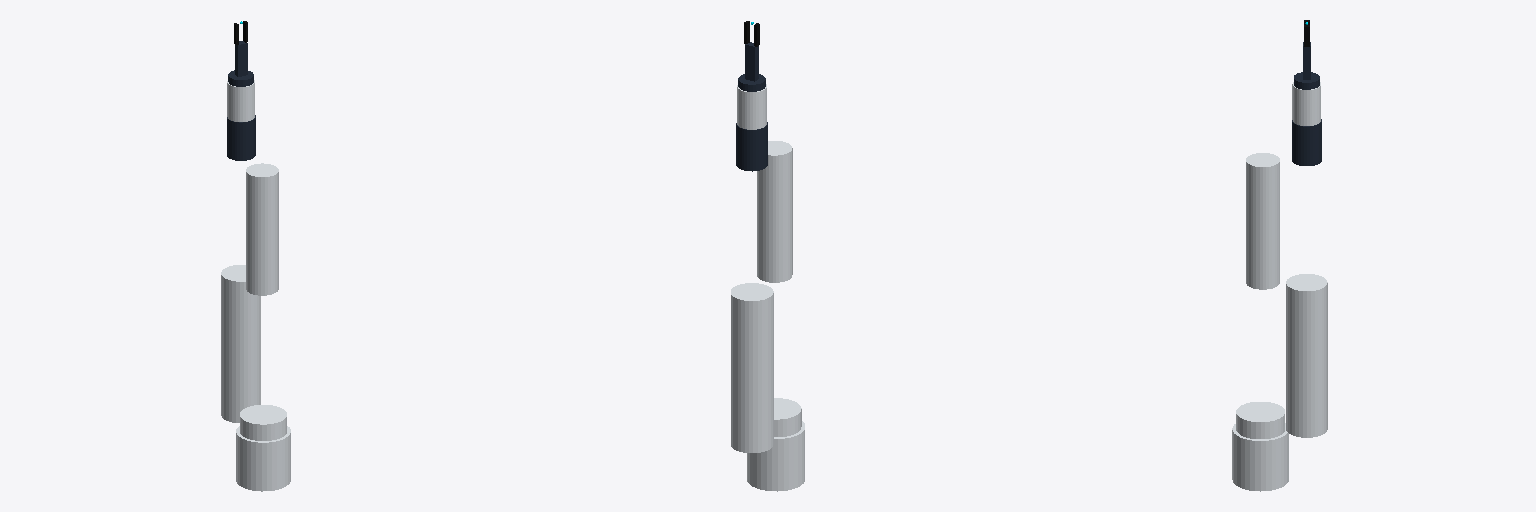
The robot description file, URDF, robot "dobot_cr5as_pge50":
<?xml version="1.0" encoding="utf-8"?>
<!-- 
  Modelo URDF del Robot Colaborativo Dobot CR5AS con Pinza Eléctrica DH-Robotics PGE-50-26
  y dedos personalizados para ajedrez.
  Dimensiones extraídas de los modelos oficiales de DobotStudio Pro 4.6 y manual PGE-Series.
  
  Cinemática Dobot CR5AS:
  - Base a J2: 147 mm (0.147 m)
  - Eslabón 1 (Brazo J2->J3): 427 mm (0.427 m)
  - Eslabón 2 (Antebrazo J3->J4): 357 mm (0.357 m)
  - Muñeca J4->J5: 116 mm (0.116 m)
  - Muñeca J5->J6: 105 mm (0.105 m)
  - Alcance total: 900 mm (0.9 m)
  
  Pinza DH-Robotics PGE-50-26:
  - Carrera: 26 mm (0.026 m, +/- 13 mm por dedo)
  - Longitud cuerpo: 97 mm (0.097 m)
-->
<robot name="dobot_cr5as_pge50">

  <!-- Materiales -->
  <material name="dobot_white">
    <color rgba="0.92 0.94 0.96 1.0"/>
  </material>
  <material name="dobot_dark">
    <color rgba="0.18 0.22 0.28 1.0"/>
  </material>
  <material name="dobot_cyan">
    <color rgba="0.0 0.9 1.0 1.0"/>
  </material>
  <material name="finger_material">
    <color rgba="0.1 0.1 0.1 1.0"/>
  </material>

  <!-- Base del Robot -->
  <link name="base_link">
    <visual>
      <origin xyz="0 0 0.0735" rpy="0 0 0"/>
      <geometry>
        <cylinder radius="0.075" length="0.147"/>
      </geometry>
      <material name="dobot_white"/>
    </visual>
    <collision>
      <origin xyz="0 0 0.0735" rpy="0 0 0"/>
      <geometry>
        <cylinder radius="0.075" length="0.147"/>
      </geometry>
    </collision>
    <inertial>
      <mass value="4.5"/>
      <origin xyz="0 0 0.07" rpy="0 0 0"/>
      <inertia ixx="0.02" ixy="0" ixz="0" iyy="0.02" iyz="0" izz="0.015"/>
    </inertial>
  </link>

  <!-- Joint 1: Base / Yaw -->
  <joint name="joint1" type="revolute">
    <parent link="base_link"/>
    <child link="link1"/>
    <origin xyz="0 0 0.147" rpy="0 0 0"/>
    <axis xyz="0 0 1"/>
    <limit lower="-6.28318" upper="6.28318" effort="150" velocity="3.14"/>
  </joint>

  <!-- Link 1 -->
  <link name="link1">
    <visual>
      <origin xyz="0 0 0" rpy="0 0 0"/>
      <geometry>
        <cylinder radius="0.065" length="0.10"/>
      </geometry>
      <material name="dobot_white"/>
    </visual>
    <collision>
      <origin xyz="0 0 0" rpy="0 0 0"/>
      <geometry>
        <cylinder radius="0.065" length="0.10"/>
      </geometry>
    </collision>
    <inertial>
      <mass value="3.5"/>
      <origin xyz="0 0 0" rpy="0 0 0"/>
      <inertia ixx="0.01" ixy="0" ixz="0" iyy="0.01" iyz="0" izz="0.01"/>
    </inertial>
  </link>

  <!-- Joint 2: Hombro / Pitch -->
  <joint name="joint2" type="revolute">
    <parent link="link1"/>
    <child link="link2"/>
    <origin xyz="0 0.122 0" rpy="0 0 0"/>
    <axis xyz="0 1 0"/>
    <limit lower="-6.28318" upper="6.28318" effort="150" velocity="3.14"/>
  </joint>

  <!-- Link 2: Brazo Superior (L1 = 427 mm) -->
  <link name="link2">
    <visual>
      <origin xyz="0 0 0.2135" rpy="0 0 0"/>
      <geometry>
        <cylinder radius="0.055" length="0.427"/>
      </geometry>
      <material name="dobot_white"/>
    </visual>
    <collision>
      <origin xyz="0 0 0.2135" rpy="0 0 0"/>
      <geometry>
        <cylinder radius="0.055" length="0.427"/>
      </geometry>
    </collision>
    <inertial>
      <mass value="5.0"/>
      <origin xyz="0 0 0.21" rpy="0 0 0"/>
      <inertia ixx="0.08" ixy="0" ixz="0" iyy="0.08" iyz="0" izz="0.01"/>
    </inertial>
  </link>

  <!-- Joint 3: Codo / Pitch -->
  <joint name="joint3" type="revolute">
    <parent link="link2"/>
    <child link="link3"/>
    <origin xyz="0 -0.116 0.427" rpy="0 0 0"/>
    <axis xyz="0 1 0"/>
    <limit lower="-2.7925" upper="2.7925" effort="100" velocity="3.14"/>
  </joint>

  <!-- Link 3: Antebrazo (L2 = 357 mm) -->
  <link name="link3">
    <visual>
      <origin xyz="0 0 0.1785" rpy="0 0 0"/>
      <geometry>
        <cylinder radius="0.045" length="0.357"/>
      </geometry>
      <material name="dobot_white"/>
    </visual>
    <collision>
      <origin xyz="0 0 0.1785" rpy="0 0 0"/>
      <geometry>
        <cylinder radius="0.045" length="0.357"/>
      </geometry>
    </collision>
    <inertial>
      <mass value="3.0"/>
      <origin xyz="0 0 0.18" rpy="0 0 0"/>
      <inertia ixx="0.04" ixy="0" ixz="0" iyy="0.04" iyz="0" izz="0.008"/>
    </inertial>
  </link>

  <!-- Joint 4: Muñeca 1 / Pitch -->
  <joint name="joint4" type="revolute">
    <parent link="link3"/>
    <child link="link4"/>
    <origin xyz="0 0.116 0.357" rpy="0 0 0"/>
    <axis xyz="0 1 0"/>
    <limit lower="-6.28318" upper="6.28318" effort="50" velocity="4.0"/>
  </joint>

  <!-- Link 4: Muñeca 1 -->
  <link name="link4">
    <visual>
      <origin xyz="0 0 0.058" rpy="0 0 0"/>
      <geometry>
        <cylinder radius="0.04" length="0.116"/>
      </geometry>
      <material name="dobot_dark"/>
    </visual>
    <collision>
      <origin xyz="0 0 0.058" rpy="0 0 0"/>
      <geometry>
        <cylinder radius="0.04" length="0.116"/>
      </geometry>
    </collision>
    <inertial>
      <mass value="1.5"/>
      <origin xyz="0 0 0.05" rpy="0 0 0"/>
      <inertia ixx="0.005" ixy="0" ixz="0" iyy="0.005" iyz="0" izz="0.003"/>
    </inertial>
  </link>

  <!-- Joint 5: Muñeca 2 / Yaw -->
  <joint name="joint5" type="revolute">
    <parent link="link4"/>
    <child link="link5"/>
    <origin xyz="0 0 0.116" rpy="0 0 0"/>
    <axis xyz="0 0 1"/>
    <limit lower="-6.28318" upper="6.28318" effort="50" velocity="4.0"/>
  </joint>

  <!-- Link 5: Muñeca 2 -->
  <link name="link5">
    <visual>
      <origin xyz="0 0 0.0525" rpy="0 0 0"/>
      <geometry>
        <cylinder radius="0.038" length="0.105"/>
      </geometry>
      <material name="dobot_white"/>
    </visual>
    <collision>
      <origin xyz="0 0 0.0525" rpy="0 0 0"/>
      <geometry>
        <cylinder radius="0.038" length="0.105"/>
      </geometry>
    </collision>
    <inertial>
      <mass value="1.2"/>
      <origin xyz="0 0 0.05" rpy="0 0 0"/>
      <inertia ixx="0.004" ixy="0" ixz="0" iyy="0.004" iyz="0" izz="0.002"/>
    </inertial>
  </link>

  <!-- Joint 6: Brida de Herramienta / Roll -->
  <joint name="joint6" type="revolute">
    <parent link="link5"/>
    <child link="flange_link"/>
    <origin xyz="0 0 0.105" rpy="0 0 0"/>
    <axis xyz="0 1 0"/>
    <limit lower="-6.28318" upper="6.28318" effort="30" velocity="5.0"/>
  </joint>

  <!-- Brida de montaje -->
  <link name="flange_link">
    <visual>
      <origin xyz="0 0 0.01" rpy="0 0 0"/>
      <geometry>
        <cylinder radius="0.035" length="0.02"/>
      </geometry>
      <material name="dobot_dark"/>
    </visual>
    <collision>
      <origin xyz="0 0 0.01" rpy="0 0 0"/>
      <geometry>
        <cylinder radius="0.035" length="0.02"/>
      </geometry>
    </collision>
    <inertial>
      <mass value="0.3"/>
      <origin xyz="0 0 0.01" rpy="0 0 0"/>
      <inertia ixx="0.001" ixy="0" ixz="0" iyy="0.001" iyz="0" izz="0.001"/>
    </inertial>
  </link>

  <!-- Joint Fijo: Brida -> Pinza PGE-50-26 -->
  <joint name="gripper_joint" type="fixed">
    <parent link="flange_link"/>
    <child link="gripper_body"/>
    <origin xyz="0 0 0.02" rpy="0 0 0"/>
  </joint>

  <!-- Cuerpo de la Pinza DH-Robotics PGE-50-26 -->
  <link name="gripper_body">
    <visual>
      <origin xyz="0 0 0.0485" rpy="0 0 0"/>
      <geometry>
        <box size="0.029 0.020 0.097"/>
      </geometry>
      <material name="dobot_dark"/>
    </visual>
    <collision>
      <origin xyz="0 0 0.0485" rpy="0 0 0"/>
      <geometry>
        <box size="0.029 0.020 0.097"/>
      </geometry>
    </collision>
    <inertial>
      <mass value="0.4"/>
      <origin xyz="0 0 0.048" rpy="0 0 0"/>
      <inertia ixx="0.001" ixy="0" ixz="0" iyy="0.001" iyz="0" izz="0.0005"/>
    </inertial>
  </link>

  <!-- Dedo Izquierdo (Móvil, prismático) -->
  <joint name="finger_left_joint" type="prismatic">
    <parent link="gripper_body"/>
    <child link="finger_left"/>
    <origin xyz="-0.008 0 0.097" rpy="0 0 0"/>
    <axis xyz="-1 0 0"/>
    <limit lower="0.001" upper="0.013" effort="50" velocity="0.1"/>
  </joint>

  <link name="finger_left">
    <visual>
      <origin xyz="0 0 0.03" rpy="0 0 0"/>
      <geometry>
        <box size="0.008 0.014 0.06"/>
      </geometry>
      <material name="finger_material"/>
    </visual>
    <collision>
      <origin xyz="0 0 0.03" rpy="0 0 0"/>
      <geometry>
        <box size="0.008 0.014 0.06"/>
      </geometry>
    </collision>
    <inertial>
      <mass value="0.05"/>
      <origin xyz="0 0 0.03" rpy="0 0 0"/>
      <inertia ixx="0.0001" ixy="0" ixz="0" iyy="0.0001" iyz="0" izz="0.00005"/>
    </inertial>
  </link>

  <!-- Dedo Derecho (Móvil, prismático) -->
  <joint name="finger_right_joint" type="prismatic">
    <parent link="gripper_body"/>
    <child link="finger_right"/>
    <origin xyz="0.008 0 0.097" rpy="0 0 0"/>
    <axis xyz="1 0 0"/>
    <limit lower="0.001" upper="0.013" effort="50" velocity="0.1"/>
  </joint>

  <link name="finger_right">
    <visual>
      <origin xyz="0 0 0.03" rpy="0 0 0"/>
      <geometry>
        <box size="0.008 0.014 0.06"/>
      </geometry>
      <material name="finger_material"/>
    </visual>
    <collision>
      <origin xyz="0 0 0.03" rpy="0 0 0"/>
      <geometry>
        <box size="0.008 0.014 0.06"/>
      </geometry>
    </collision>
    <inertial>
      <mass value="0.05"/>
      <origin xyz="0 0 0.03" rpy="0 0 0"/>
      <inertia ixx="0.0001" ixy="0" ixz="0" iyy="0.0001" iyz="0" izz="0.00005"/>
    </inertial>
  </link>

  <!-- Tool Center Point (TCP): Punta de los dedos -->
  <joint name="tcp_joint" type="fixed">
    <parent link="gripper_body"/>
    <child link="tcp_link"/>
    <origin xyz="0 0 0.157" rpy="0 0 0"/>
  </joint>

  <link name="tcp_link">
    <visual>
      <origin xyz="0 0 0" rpy="0 0 0"/>
      <geometry>
        <sphere radius="0.004"/>
      </geometry>
      <material name="dobot_cyan"/>
    </visual>
  </link>

</robot>

--- What the picture shows (computed from the rendered views, not written in the file) ---
Views: 3 orthographic renders of the robot side by side, from view 1: azimuth 30°, elevation 25°; view 2: azimuth 150°, elevation 25°; view 3: azimuth 270°, elevation 25°.
Model dobot_cr5as_pge50 with 11 links and 10 joints (6 revolute, 2 prismatic, 2 fixed), rooted at base_link, posed joints at zero except 2 at the middle of their limits (finger_left_joint = 0.007, finger_right_joint = 0.007).
Visible links, largest first — view 1: link2, link3, base_link, link1, link4, link5; view 2: link2, link3, base_link, link4, link5, link1; view 3: link2, link3, base_link, link1, link4, link5.
Boxes of the visible links, left/top/right/bottom form: link2: left=221, top=265, right=260, bottom=422; link3: left=246, top=163, right=278, bottom=295; base_link: left=236, top=426, right=290, bottom=491; link1: left=240, top=405, right=286, bottom=440; link4: left=227, top=115, right=255, bottom=160; link5: left=227, top=80, right=254, bottom=121; link2: left=731, top=283, right=773, bottom=452; link3: left=757, top=141, right=792, bottom=282; base_link: left=747, top=421, right=804, bottom=491; link4: left=736, top=122, right=767, bottom=171; link5: left=737, top=84, right=766, bottom=129; link1: left=774, top=398, right=801, bottom=436; link2: left=1286, top=274, right=1327, bottom=437; link3: left=1246, top=153, right=1279, bottom=289; base_link: left=1232, top=423, right=1288, bottom=491; link1: left=1236, top=402, right=1284, bottom=438; link4: left=1292, top=119, right=1321, bottom=165; link5: left=1292, top=82, right=1320, bottom=125.
Size in the robot's own frame: 0.15 by 0.252 by 1.33 metres.
Geometry: primitives only (box / cylinder / sphere), no mesh files.
